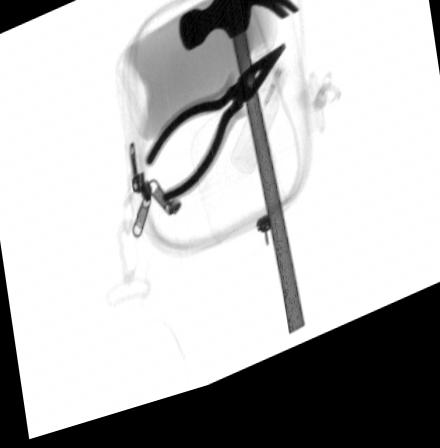Hammer: (178, 0, 307, 352)
Pliers: (142, 58, 287, 215)
